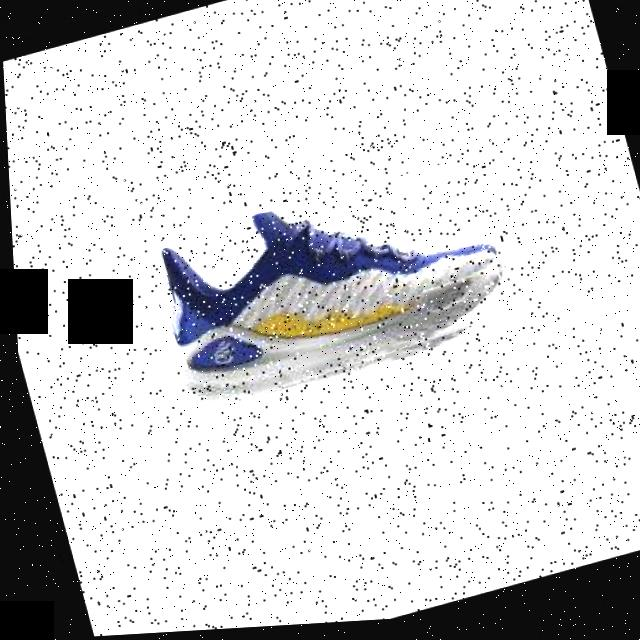shoe: (137, 157, 522, 421)
